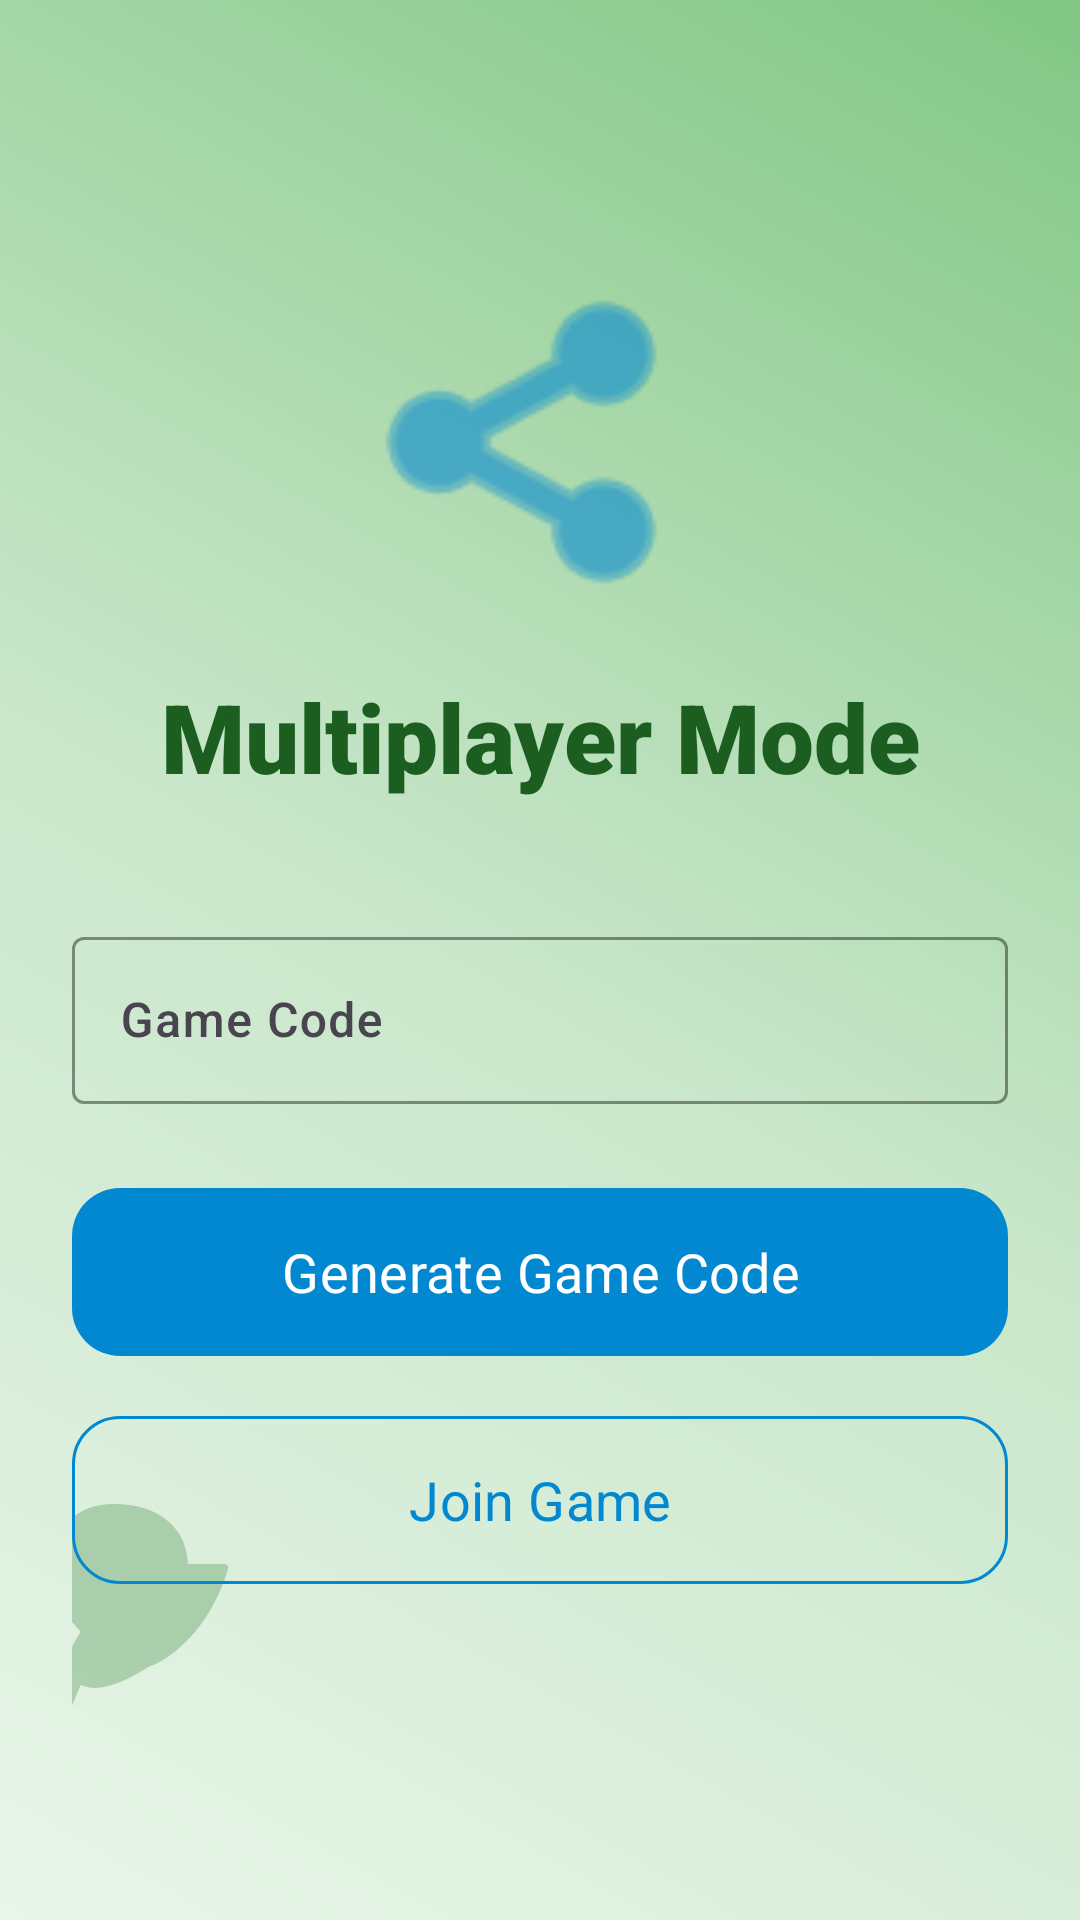

Icon click points for this 1080w x 1920h phone screenshot, format [x,y]:
share: [521,441]
